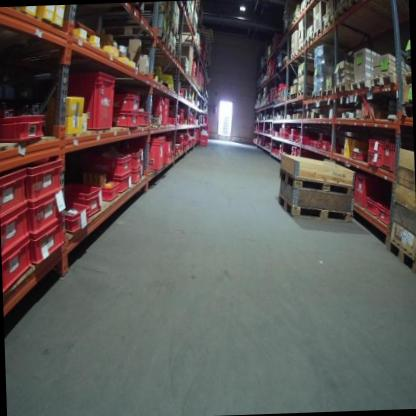pallet: (278, 166, 354, 200), (277, 195, 354, 226), (386, 240, 416, 275), (372, 70, 396, 88), (350, 77, 372, 91), (335, 2, 348, 19), (334, 82, 350, 94), (313, 26, 324, 39), (401, 73, 412, 85), (320, 88, 334, 97), (304, 34, 313, 47), (324, 19, 334, 30), (290, 50, 298, 59), (297, 44, 304, 53), (297, 91, 304, 97), (306, 0, 312, 7)
small_load_carrier: (48, 69, 120, 134), (26, 155, 66, 208), (30, 217, 70, 267), (2, 236, 35, 294), (0, 110, 50, 146), (28, 193, 63, 243), (0, 166, 30, 224), (83, 149, 133, 183), (0, 209, 32, 262), (66, 180, 106, 218), (350, 170, 378, 208), (61, 201, 93, 234), (111, 89, 144, 112), (149, 135, 169, 172), (379, 138, 398, 176), (100, 175, 122, 205), (351, 149, 383, 167), (124, 147, 146, 172), (156, 98, 172, 130), (114, 114, 140, 131), (375, 203, 391, 225), (119, 173, 134, 194), (367, 136, 382, 156), (129, 168, 144, 187), (367, 197, 379, 217), (149, 92, 163, 107), (140, 110, 151, 128), (164, 153, 178, 167), (320, 138, 332, 152), (149, 107, 162, 117), (167, 119, 179, 129), (163, 140, 172, 152)
